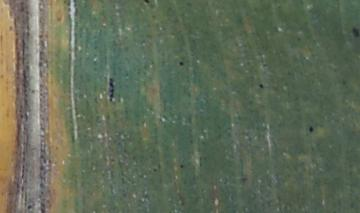tarspot: (107, 74, 115, 104), (347, 24, 360, 40), (308, 122, 315, 135), (139, 1, 154, 7), (256, 82, 266, 90), (177, 61, 187, 68), (179, 161, 186, 171)
